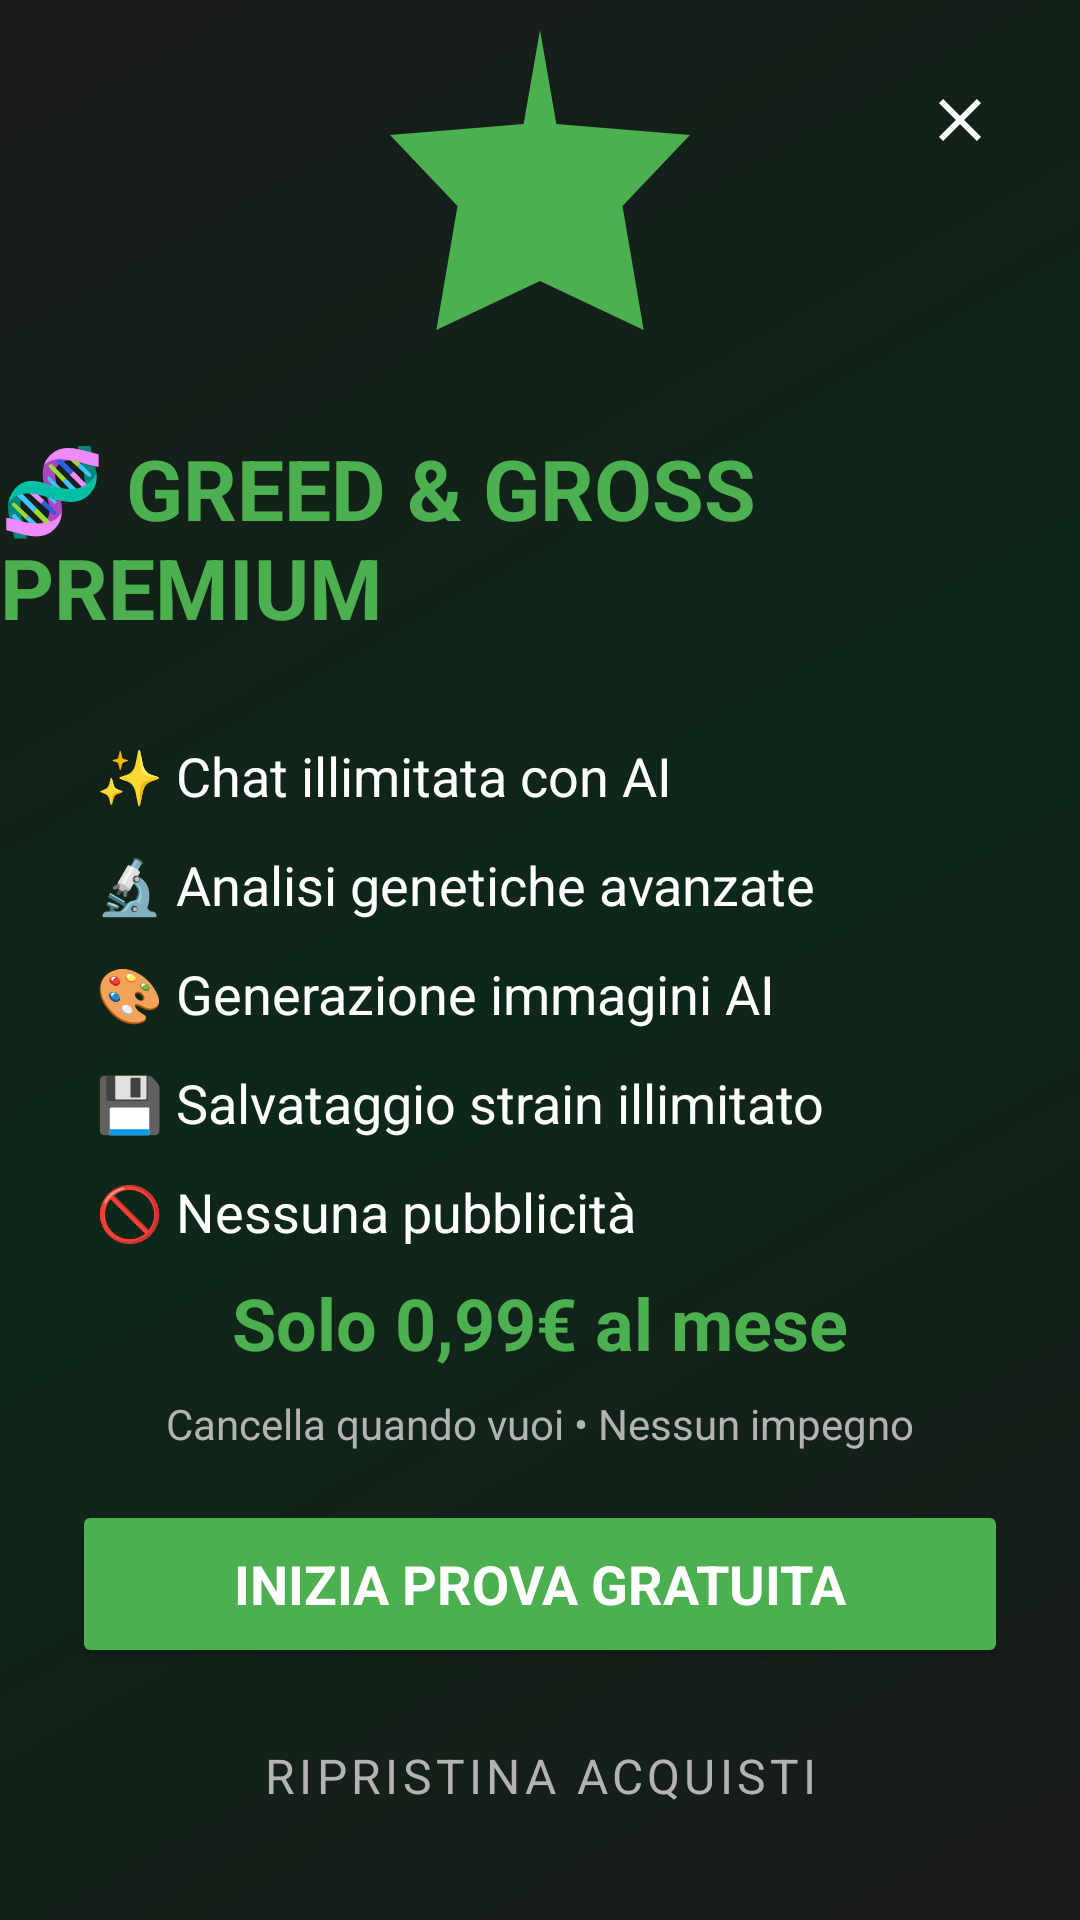

Icons on this 1080*1920 Android screen, each with the point to tap as point (x, y):
close: point (960, 120)
